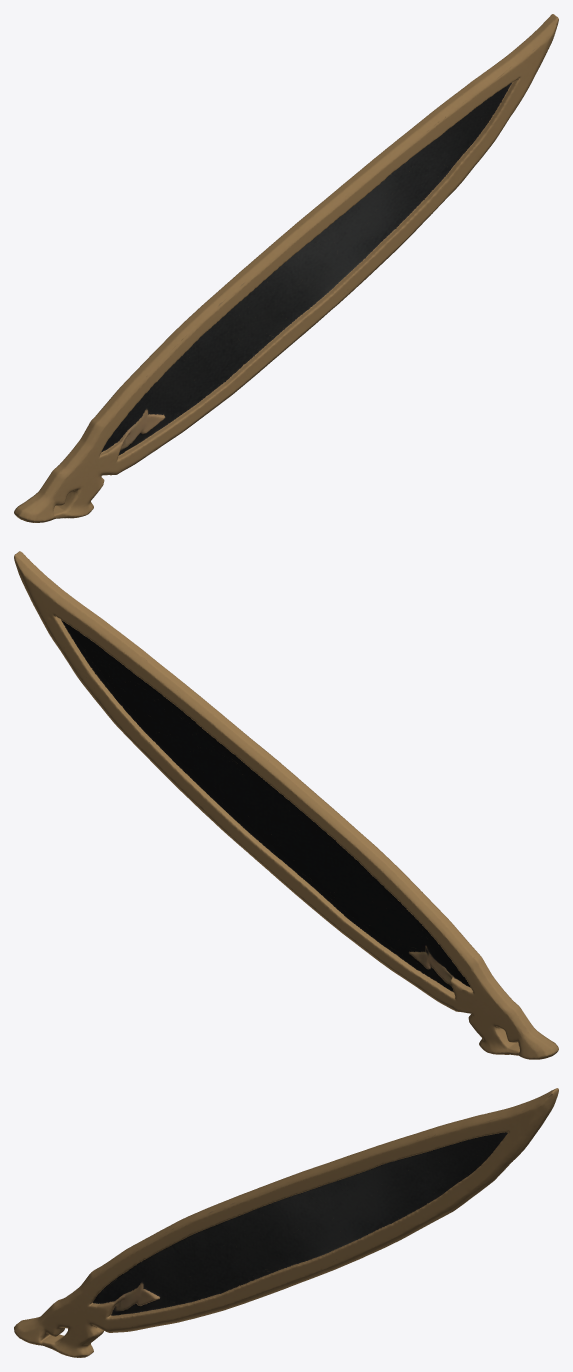
The model's file is ear_single_ref.glb.
The picture shows the model from 3 angles, top to bottom: view 1: azimuth 30°, elevation 25°; view 2: azimuth 150°, elevation 25°; view 3: azimuth 330°, elevation 25°; orthographic projection.
Bounding box in the file's own units: 1 × 0.6762 × 0.0521.
Materials: 1 (1 with a texture image).
